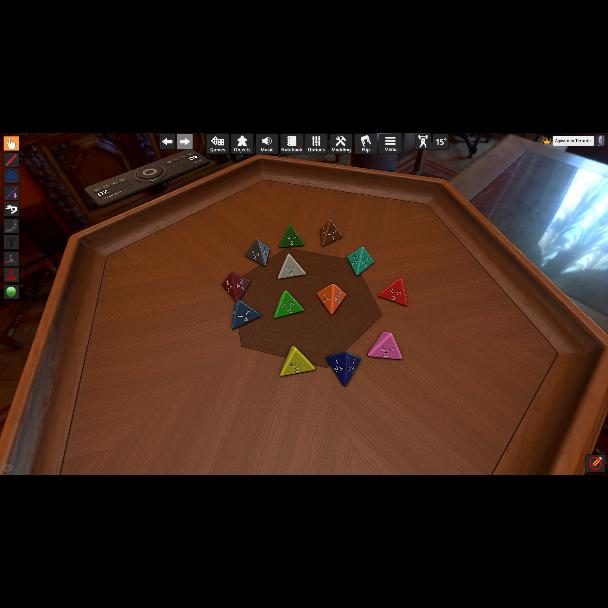d4: (327, 350, 360, 386), (281, 347, 315, 378), (368, 332, 402, 360), (222, 272, 250, 304), (274, 290, 304, 318), (232, 300, 260, 330), (316, 284, 344, 314), (378, 278, 406, 306), (347, 247, 373, 277), (278, 253, 306, 280), (278, 224, 304, 250), (246, 240, 270, 268), (320, 220, 342, 246)
